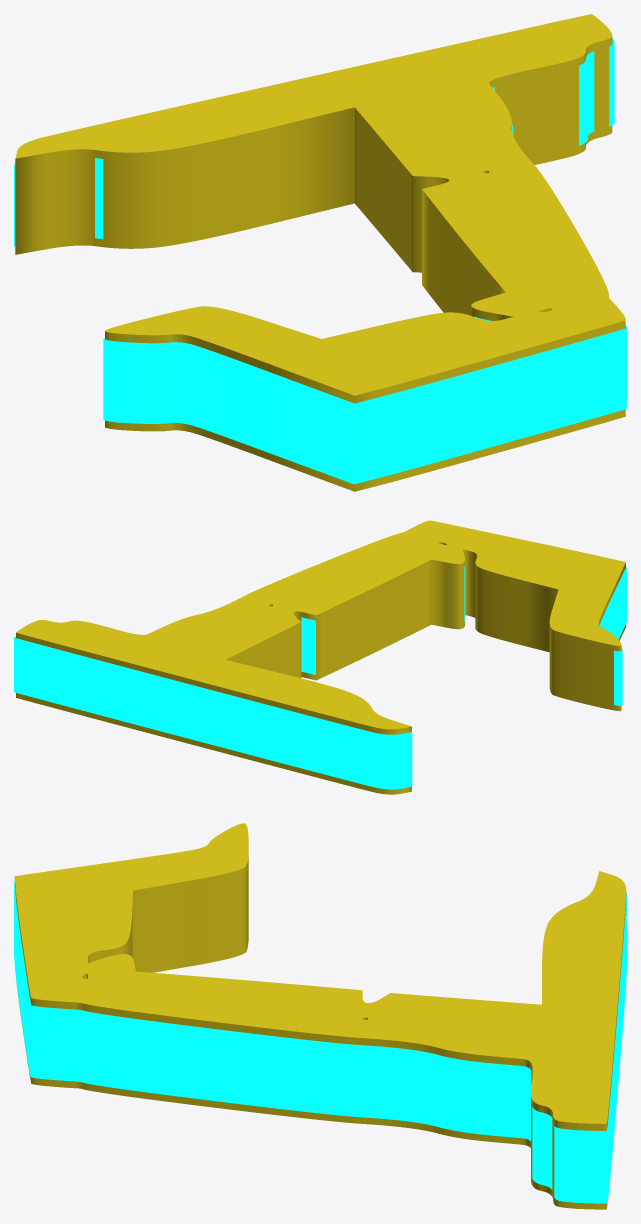
File: LetterJ.glb
The picture shows the model from 3 angles, top to bottom: view 1: azimuth 30°, elevation 25°; view 2: azimuth 150°, elevation 25°; view 3: azimuth 270°, elevation 25°; orthographic projection. The views are drawn at different scales.
Visible parts, largest first — view 1: Text, Text.001; view 2: Text, Text.001; view 3: Text, Text.001.
Part boxes in pixels (x1=…): Text: x1=15, y1=14, x2=625, y2=491; Text.001: x1=14, y1=38, x2=626, y2=484; Text: x1=16, y1=520, x2=625, y2=794; Text.001: x1=14, y1=564, x2=626, y2=789; Text: x1=14, y1=823, x2=626, y2=1209; Text.001: x1=14, y1=882, x2=626, y2=1203.
Bounding box in the file's own units: 0.6577 × 0.087 × 0.5635.
